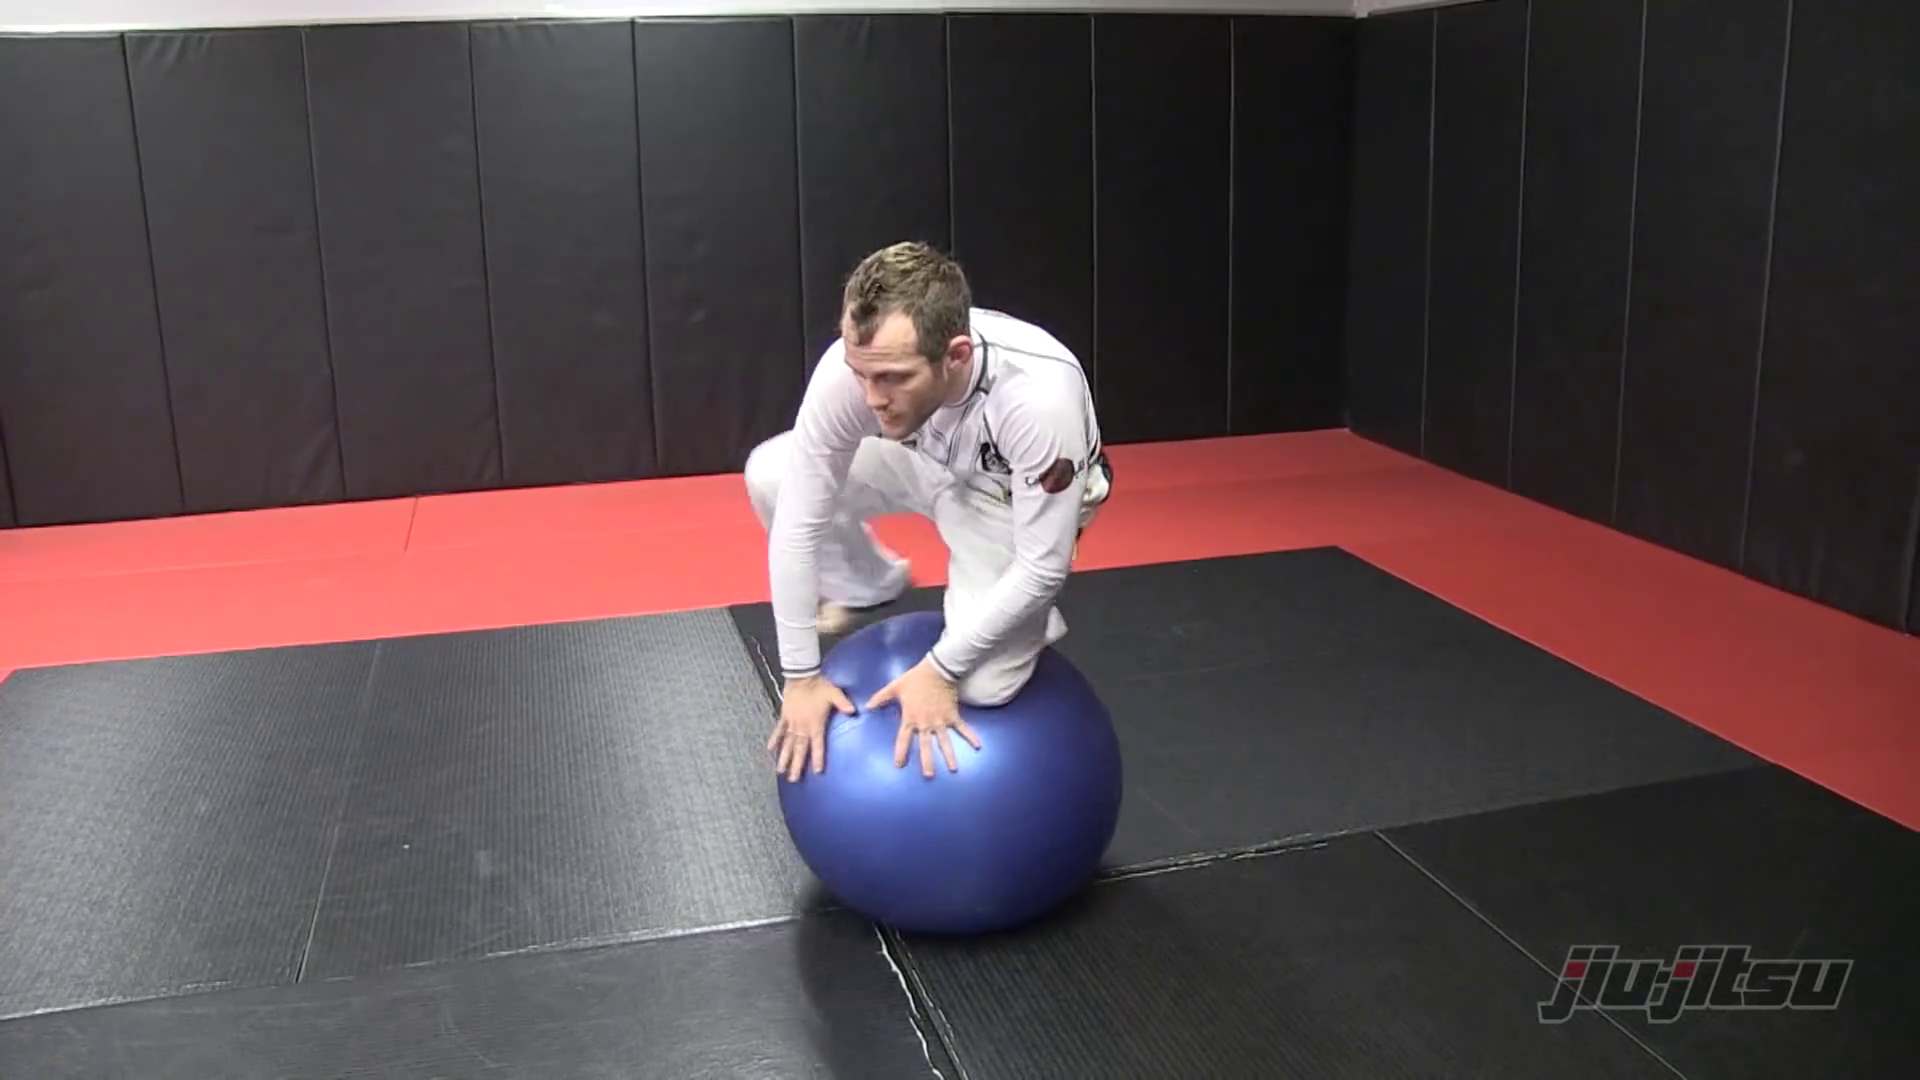yogaball: (746, 603, 1162, 957)
